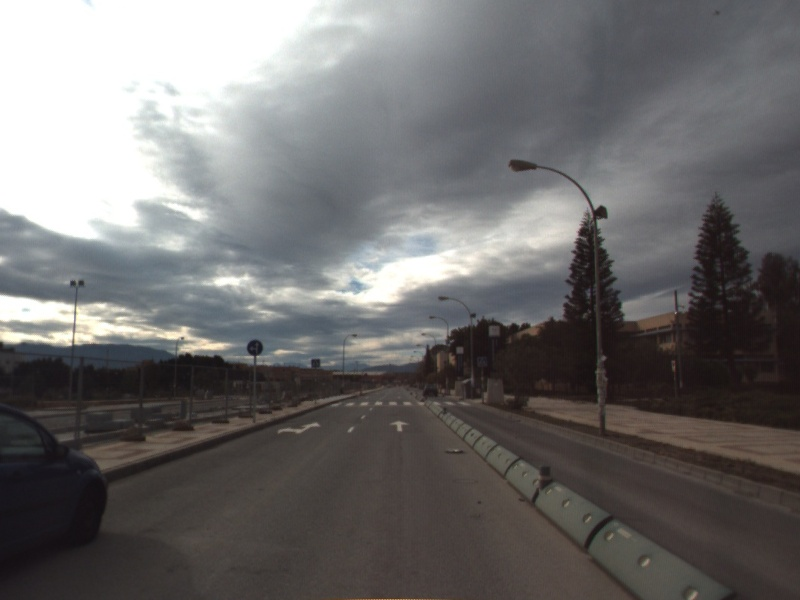STRAIGHT: (388, 418, 412, 433)
STRAIGHT_LEFT: (275, 419, 323, 436)
